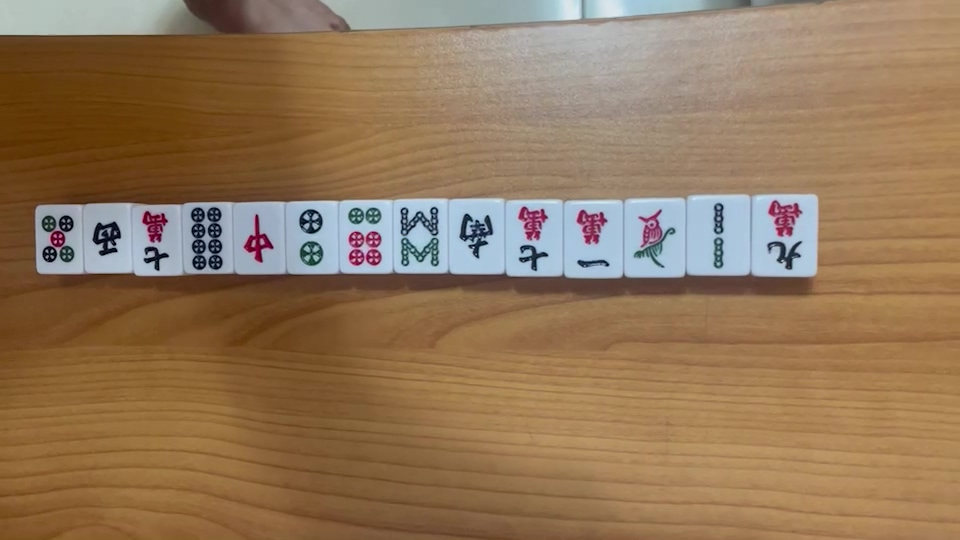b-2: (702, 200, 735, 271)
b-8: (396, 204, 441, 272)
c-1: (630, 210, 676, 266), (574, 207, 611, 272)
c-7: (512, 204, 553, 274), (138, 208, 174, 271)
c-9: (761, 200, 806, 272)
d-2: (296, 205, 325, 268)
d-5: (38, 213, 79, 266)
d-6: (346, 207, 383, 270)
d-8: (189, 205, 225, 271)
honors-red: (240, 212, 276, 267)
honors-south: (454, 209, 495, 261)
honors-west: (90, 219, 125, 259)
